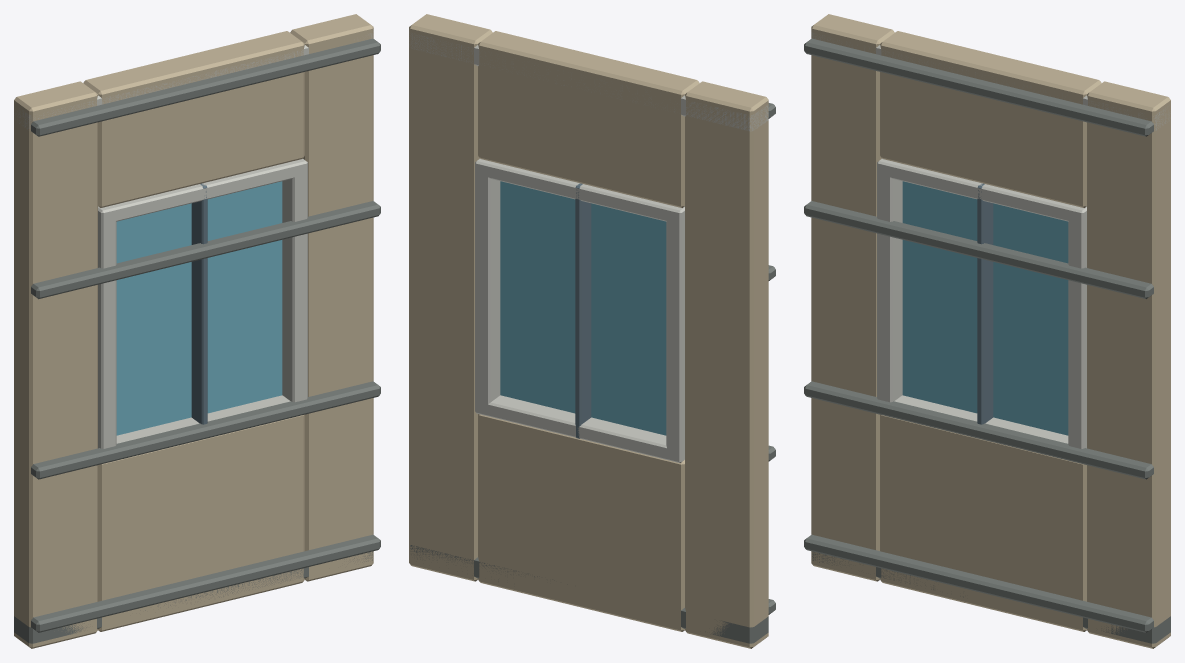
The model's file is architecture-city-window-wall.lod0.glb.
3 renders of one model, left to right at view 1: azimuth 30°, elevation 25°; view 2: azimuth 150°, elevation 25°; view 3: azimuth 330°, elevation 25°, orthographic.
Parts seen in each view (by area): view 1: architecture-city-window-wall__body; view 2: architecture-city-window-wall__body; view 3: architecture-city-window-wall__body.
Part boxes in pixels (x1,y1,x2,y2): architecture-city-window-wall__body: [14, 14, 380, 648]; architecture-city-window-wall__body: [409, 14, 775, 648]; architecture-city-window-wall__body: [804, 14, 1170, 648].
Bounding box in the file's own units: 2 × 3 × 0.275.
